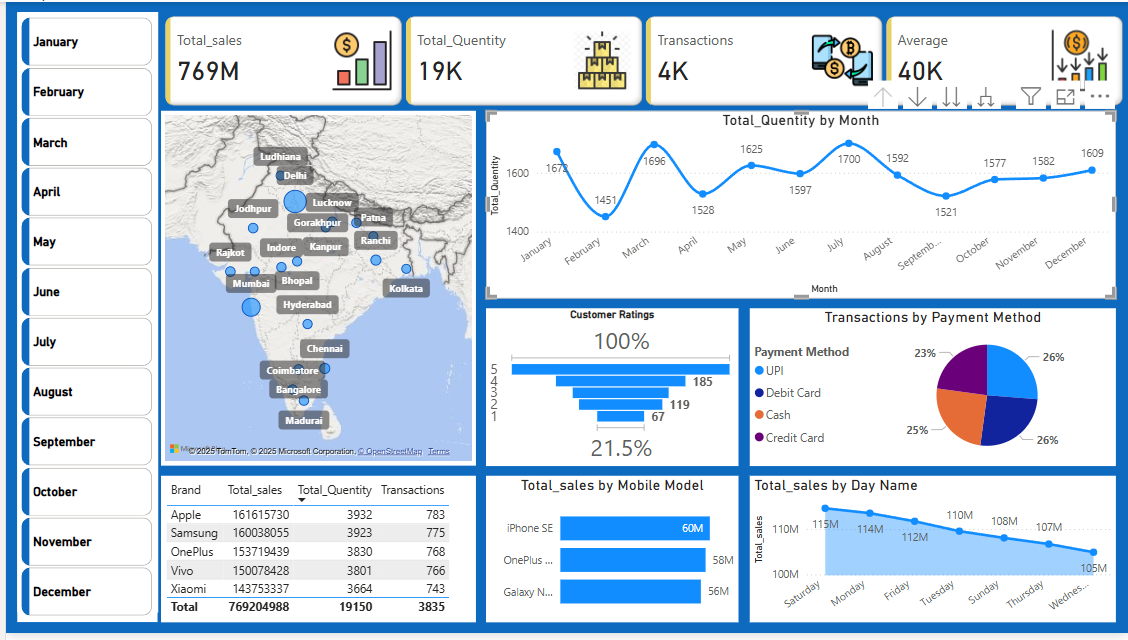

The page's visual inventory and layout, read from the dashboard file:
{"tool":"powerbi","page":{"name":"Page 1","canvas":[1280,720],"ordinal":0},"visuals":[{"type":"shape","box":[12.3,11,160.5,684.7],"z":0},{"type":"advancedSlicerVisual","fields":{"Values":["Mobile_Sales.Date.Variation.Date Hierarchy.Month"]},"box":[12.8,12.8,159.7,694.3],"z":1000},{"type":"cardVisual","fields":{"Data":["Mobile_Sales.Total_sales","Mobile_Sales.Total_Quentity","Mobile_Sales.Transactions","Mobile_Sales.Average"]},"box":[176.8,11.4,1103.5,112.6],"z":2000},{"type":"map","fields":{"Category":["Mobile_Sales.City"],"Size":["Mobile_Sales.Total_sales"]},"box":[176.8,124,359.3,404.9],"z":3000},{"type":"lineChart","fields":{"Y":["Mobile_Sales.Total_Quentity"],"Category":["Mobile_Sales.Date.Variation.Date Hierarchy.Month","Mobile_Sales.Date.Variation.Date Hierarchy.Day"]},"box":[547.5,124,718.6,213.9],"z":4000},{"type":"barChart","fields":{"Category":["Mobile_Sales.Mobile Model"],"Y":["Mobile_Sales.Total_sales"]},"box":[547.5,540.3,288,166.8],"z":5000},{"type":"pieChart","fields":{"Y":["Mobile_Sales.Transactions"],"Category":["Mobile_Sales.Payment Method"]},"box":[848.3,349.3,417.7,179.6],"z":6000},{"type":"funnel","title":"Customer Ratings","fields":{"Category":["Mobile_Sales.Customer Ratings"],"Y":["CountNonNull(Mobile_Sales.Customer Ratings)"]},"box":[547.5,349.3,288,179.6],"z":7000},{"type":"areaChart","fields":{"Category":["Mobile_Sales.Day Name.1"],"Y":["Mobile_Sales.Total_sales"]},"box":[848.3,540.3,417.7,166.8],"z":8000},{"type":"tableEx","fields":{"Values":["Mobile_Sales.Brand","Mobile_Sales.Total_sales","Mobile_Sales.Total_Quentity","Mobile_Sales.Transactions"]},"box":[176.8,540.3,359.3,166.8],"z":9000}]}

Visuals, with their boxes in screenshot pixels (x1, y1, x2, y2), scaled from the page's 1280x720 canvas onto the 1128x640 screenshot:
shape: (x1=11, y1=10, x2=152, y2=618)
advancedSlicerVisual - Mobile_Sales.Date.Variation.Date Hierarchy.Month: (x1=11, y1=11, x2=152, y2=629)
cardVisual - Mobile_Sales.Total_sales x Mobile_Sales.Total_Quentity: (x1=156, y1=10, x2=1127, y2=110)
map - Mobile_Sales.City x Mobile_Sales.Total_sales: (x1=156, y1=110, x2=472, y2=470)
lineChart - Mobile_Sales.Total_Quentity x Mobile_Sales.Date.Variation.Date Hierarchy.Month: (x1=482, y1=110, x2=1116, y2=300)
barChart - Mobile_Sales.Mobile Model x Mobile_Sales.Total_sales: (x1=482, y1=480, x2=736, y2=629)
pieChart - Mobile_Sales.Transactions x Mobile_Sales.Payment Method: (x1=748, y1=310, x2=1116, y2=470)
"Customer Ratings" funnel: (x1=482, y1=310, x2=736, y2=470)
areaChart - Mobile_Sales.Day Name.1 x Mobile_Sales.Total_sales: (x1=748, y1=480, x2=1116, y2=629)
tableEx - Mobile_Sales.Brand x Mobile_Sales.Total_sales: (x1=156, y1=480, x2=472, y2=629)
